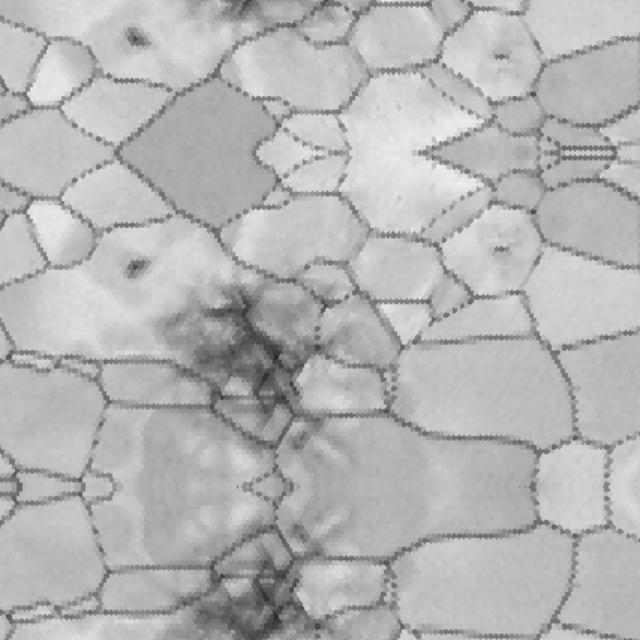good_void: (154, 276, 347, 463), (157, 513, 347, 640), (491, 235, 528, 266), (491, 42, 528, 73), (118, 258, 154, 284), (118, 23, 154, 49)
